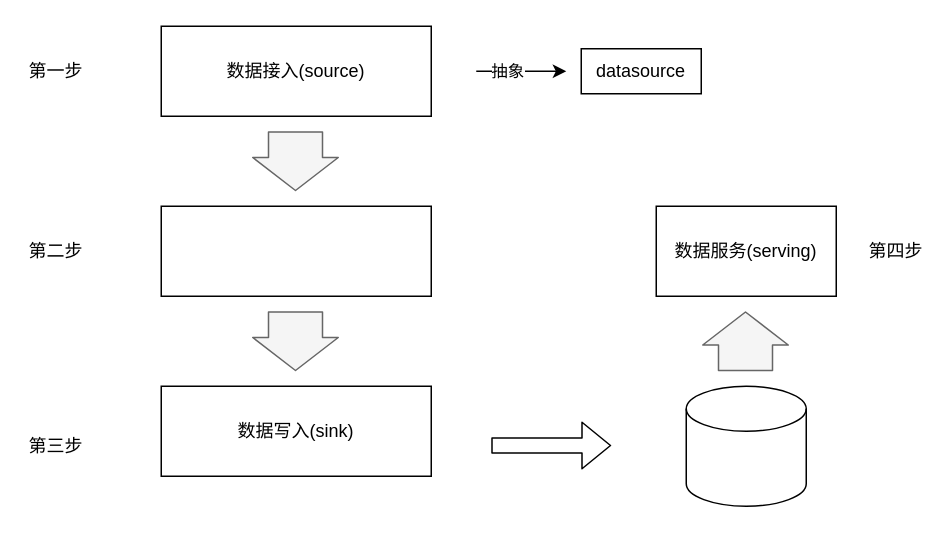
Some shapes in this 951 by 533 pixel diagram are drawn without their labels. The shapes that lost their labels are listed below. From the top down, each one's centre as x and y in pixels, then its label:
At point (295, 250): "数据清洗(transform)".
At point (745, 445): "数据存储(store)".
